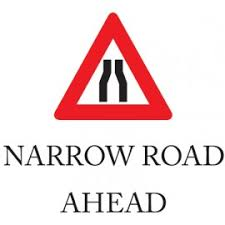Narrow_road: (49, 10, 184, 125)
